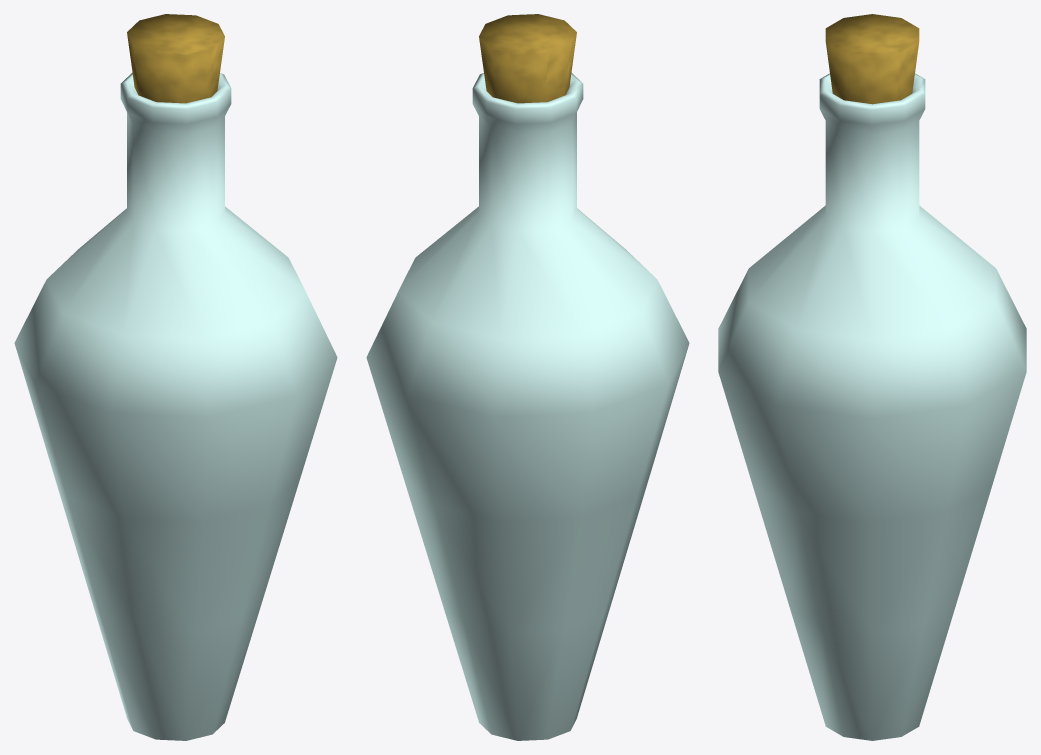
Rendered from droplet-short_neck.glb.
3 views of the same model, side by side, from view 1: azimuth 30°, elevation 25°; view 2: azimuth 150°, elevation 25°; view 3: azimuth 270°, elevation 25° (orthographic).
Visible parts, largest first — view 1: droplet-short_neck, cork-droplet-short_neck; view 2: droplet-short_neck, cork-droplet-short_neck; view 3: droplet-short_neck, cork-droplet-short_neck.
Part boxes in pixels (x1=…): droplet-short_neck: x1=14, y1=72, x2=337, y2=740; cork-droplet-short_neck: x1=127, y1=14, x2=224, y2=103; droplet-short_neck: x1=366, y1=72, x2=689, y2=740; cork-droplet-short_neck: x1=479, y1=14, x2=576, y2=103; droplet-short_neck: x1=718, y1=73, x2=1026, y2=740; cork-droplet-short_neck: x1=825, y1=14, x2=919, y2=104.
Size of the model in its own units: 0.0745 by 0.1737 by 0.0709.
2 materials, 1 textured.
